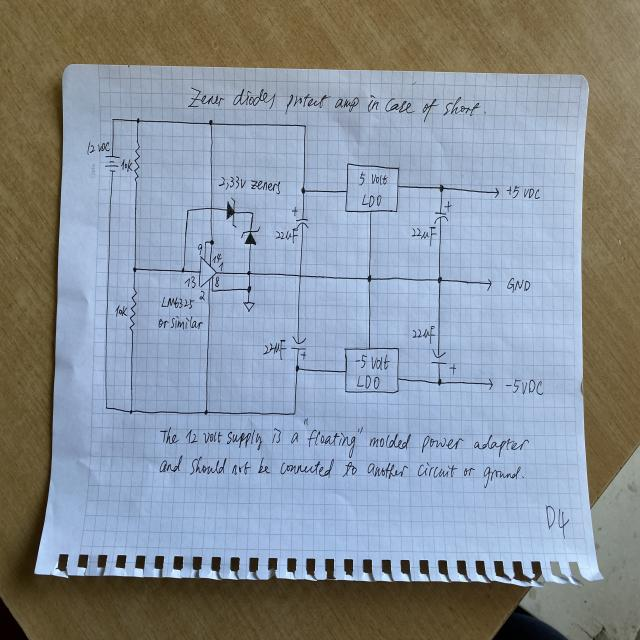capacitor: (429, 348, 457, 375), (432, 198, 454, 224), (289, 334, 307, 360), (292, 206, 309, 232)
crossover: (297, 272, 303, 280), (208, 204, 214, 212)
diode: (225, 196, 237, 229), (240, 226, 260, 245)
ground: (242, 299, 255, 315)
junction: (290, 409, 298, 418), (438, 183, 445, 192), (207, 119, 214, 128), (245, 269, 252, 277), (437, 275, 443, 284), (135, 116, 141, 125), (180, 266, 186, 275), (300, 186, 306, 195), (246, 284, 252, 293), (203, 408, 209, 417), (132, 265, 138, 273), (366, 274, 372, 282), (302, 122, 308, 130), (209, 238, 215, 246), (437, 379, 443, 386), (294, 365, 300, 372), (110, 116, 116, 123), (185, 207, 191, 214), (250, 209, 255, 217), (129, 408, 134, 416), (104, 404, 109, 411), (204, 239, 207, 245), (210, 289, 214, 293)
resistor: (129, 289, 138, 332), (133, 140, 141, 185)
source: (104, 154, 120, 173)
terminal: (493, 185, 501, 199), (486, 378, 494, 391), (486, 278, 492, 292)
text: (159, 418, 531, 458), (157, 452, 525, 490), (186, 86, 487, 122), (156, 314, 204, 332), (545, 504, 570, 536), (503, 377, 545, 396), (408, 222, 439, 246), (355, 354, 390, 371), (160, 295, 194, 311), (506, 184, 540, 200), (250, 179, 282, 195), (262, 338, 286, 359), (411, 325, 436, 345), (218, 174, 246, 191), (507, 276, 532, 295), (273, 227, 300, 244), (359, 171, 388, 186), (356, 375, 380, 389), (87, 140, 110, 154), (361, 193, 382, 208), (114, 304, 128, 318), (185, 275, 197, 289), (120, 158, 132, 172), (212, 253, 222, 264), (198, 290, 206, 302), (196, 242, 203, 254), (214, 276, 220, 288), (218, 261, 224, 271)
